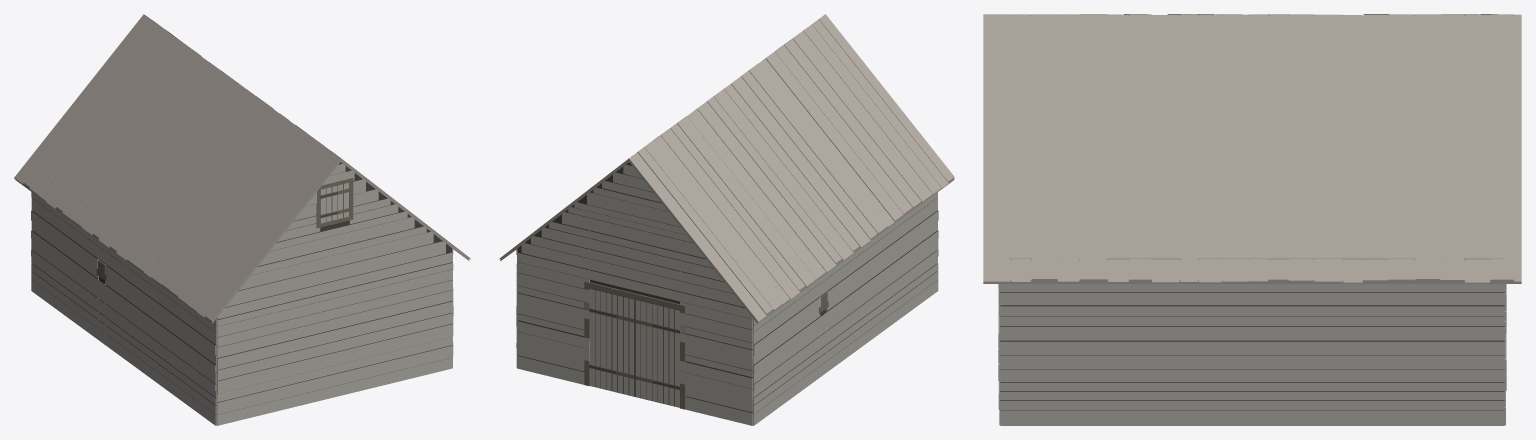
Rendered from recon_1835_north_a2_095__inferred_1835.glb.
3 views of the same model, side by side, from view 1: azimuth 30°, elevation 25°; view 2: azimuth 150°, elevation 25°; view 3: azimuth 270°, elevation 25° (orthographic). The views are drawn at different scales.
Visible parts, largest first — view 1: recon_1835_north_a2_095__inferred_1835; view 2: recon_1835_north_a2_095__inferred_1835; view 3: recon_1835_north_a2_095__inferred_1835.
Part boxes in pixels (x1,y1,x2,y2): recon_1835_north_a2_095__inferred_1835: [14, 14, 470, 425]; recon_1835_north_a2_095__inferred_1835: [499, 14, 954, 425]; recon_1835_north_a2_095__inferred_1835: [983, 14, 1521, 425].
Bounding box in the file's own units: 8.32 × 7.44 × 10.9.
